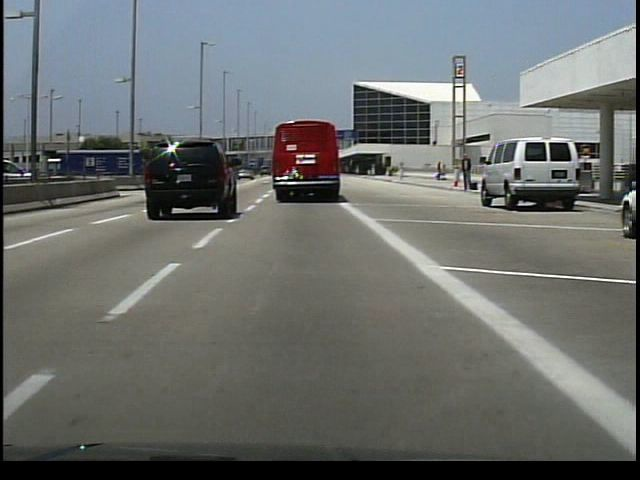person: (459, 153, 473, 196)
